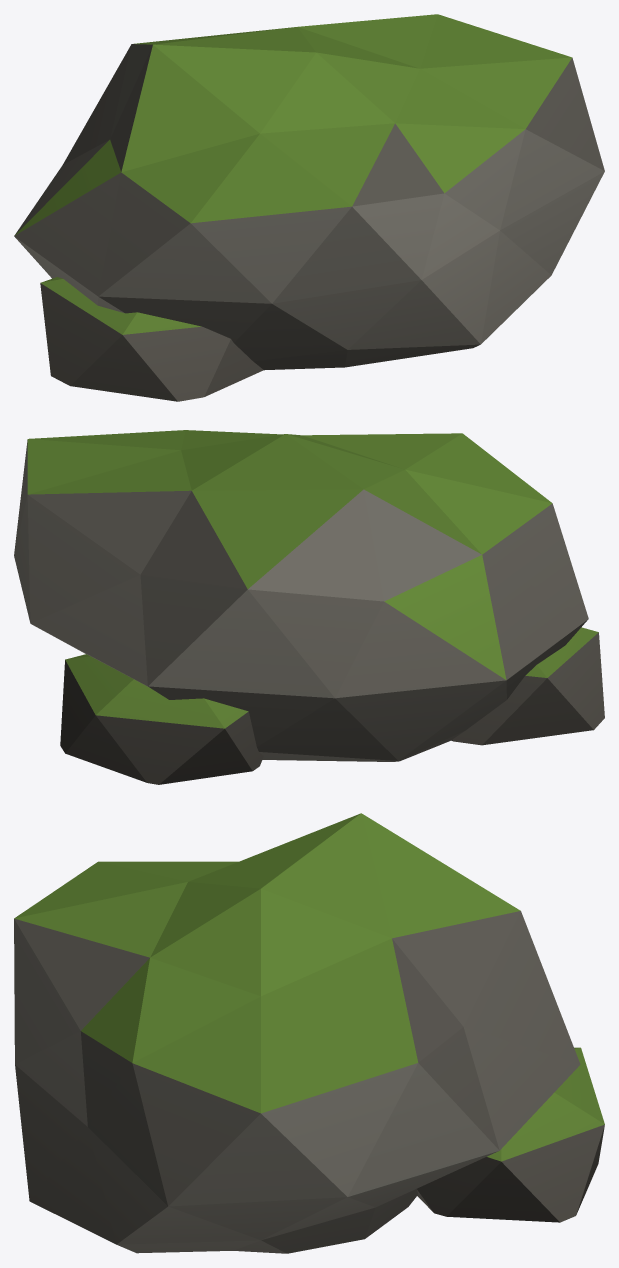
File: e_rock_c.glb
3 renders of one model, top to bottom at view 1: azimuth 30°, elevation 25°; view 2: azimuth 150°, elevation 25°; view 3: azimuth 270°, elevation 25°, orthographic. The views are drawn at different scales.
Visible parts, largest first — view 1: e_rock_c; view 2: e_rock_c; view 3: e_rock_c.
Part boxes in pixels (<box>): e_rock_c: <box>14,14,604,401</box>; e_rock_c: <box>14,430,604,784</box>; e_rock_c: <box>14,813,604,1253</box>.
Bounding box in the file's own units: 3.46 × 1.49 × 2.79.
